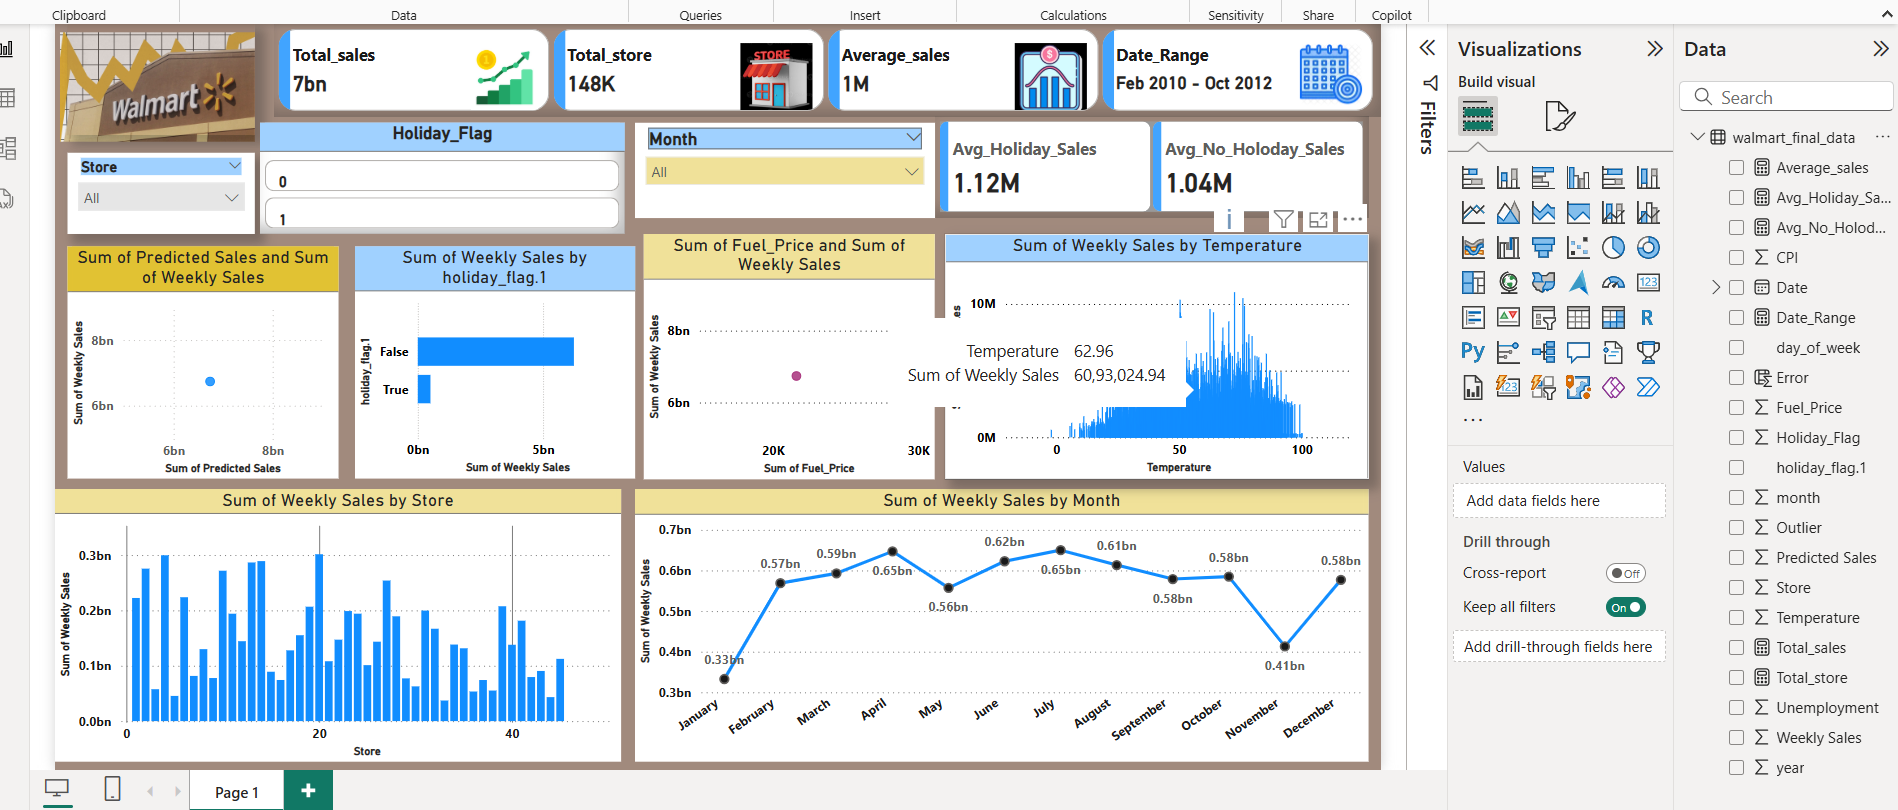

The dashboard page shown, as its layout file describes it:
{"tool":"powerbi","page":{"name":"Page 1","canvas":[1280,720],"ordinal":0},"visuals":[{"type":"image","box":[0,0,197.9,121.9],"z":0},{"type":"shape","box":[12.1,0,181,107.4],"z":1000},{"type":"cardVisual","fields":{"Data":["walmart_final_data.Total_sales","walmart_final_data.Total_store","walmart_final_data.Average_sales","walmart_final_data.Date_Range"]},"box":[211.1,0,1068.9,89.3],"z":2000},{"type":"lineChart","fields":{"Category":["walmart_final_data.Date.Variation.Date Hierarchy.Month","walmart_final_data.Date.Variation.Date Hierarchy.Day"],"Y":["Sum(walmart_final_data.Weekly_Sales)"]},"box":[559.8,448.8,708.2,263],"z":3000},{"type":"clusteredColumnChart","fields":{"Category":["walmart_final_data.Store"],"Y":["Sum(walmart_final_data.Weekly_Sales)"]},"box":[0,448.8,546.5,263],"z":4000},{"type":"clusteredBarChart","fields":{"Y":["Sum(walmart_final_data.Weekly_Sales)"],"Category":["walmart_final_data.holiday_flag.1"]},"box":[289.5,214.7,270.2,224.4],"z":5000},{"type":"cardVisual","fields":{"Data":["walmart_final_data.Avg_Holiday_Sales","walmart_final_data.Avg_No_Holoday_Sales"]},"box":[849.3,89.3,418.6,97.7],"z":6000},{"type":"clusteredColumnChart","fields":{"Category":["walmart_final_data.Temperature"],"Y":["Sum(walmart_final_data.Weekly_Sales)"]},"box":[859,202.7,409,236.5],"z":7000},{"type":"scatterChart","fields":{"X":["Sum(walmart_final_data.Fuel_Price)"],"Y":["Sum(walmart_final_data.Weekly_Sales)"]},"box":[568.2,202.7,281.1,236.5],"z":8000},{"type":"slicer","fields":{"Values":["walmart_final_data.month"]},"box":[559.8,95.3,289.5,91.7],"z":9000},{"type":"slicer","fields":{"Values":["walmart_final_data.Store"]},"box":[12.1,124.3,181,78.4],"z":10000},{"type":"advancedSlicerVisual","fields":{"Values":["walmart_final_data.Holiday_Flag"]},"box":[197.9,95.3,352.3,107.4],"z":11000},{"type":"scatterChart","fields":{"X":["Sum(walmart_final_data.Predicted Sales)"],"Y":["Sum(walmart_final_data.Weekly Sales)"]},"box":[12.1,214.7,261.8,224.4],"z":12000}]}

Visuals, with their boxes on the page's 1280x720 design canvas (x1, y1, x2, y2). These are canvas units, not pixel positions in the 1898x810 screenshot, which may show the page scaled, cropped or inside an application window:
image: bbox=(0, 0, 198, 122)
shape: bbox=(12, 0, 193, 107)
cardVisual - walmart_final_data.Total_sales x walmart_final_data.Total_store: bbox=(211, 0, 1280, 89)
lineChart - walmart_final_data.Date.Variation.Date Hierarchy.Month x walmart_final_data.Date.Variation.Date Hierarchy.Day: bbox=(560, 449, 1268, 712)
clusteredColumnChart - walmart_final_data.Store x Sum(walmart_final_data.Weekly_Sales): bbox=(0, 449, 546, 712)
clusteredBarChart - Sum(walmart_final_data.Weekly_Sales) x walmart_final_data.holiday_flag.1: bbox=(290, 215, 560, 439)
cardVisual - walmart_final_data.Avg_Holiday_Sales x walmart_final_data.Avg_No_Holoday_Sales: bbox=(849, 89, 1268, 187)
clusteredColumnChart - walmart_final_data.Temperature x Sum(walmart_final_data.Weekly_Sales): bbox=(859, 203, 1268, 439)
scatterChart - Sum(walmart_final_data.Fuel_Price) x Sum(walmart_final_data.Weekly_Sales): bbox=(568, 203, 849, 439)
slicer - walmart_final_data.month: bbox=(560, 95, 849, 187)
slicer - walmart_final_data.Store: bbox=(12, 124, 193, 203)
advancedSlicerVisual - walmart_final_data.Holiday_Flag: bbox=(198, 95, 550, 203)
scatterChart - Sum(walmart_final_data.Predicted Sales) x Sum(walmart_final_data.Weekly Sales): bbox=(12, 215, 274, 439)
